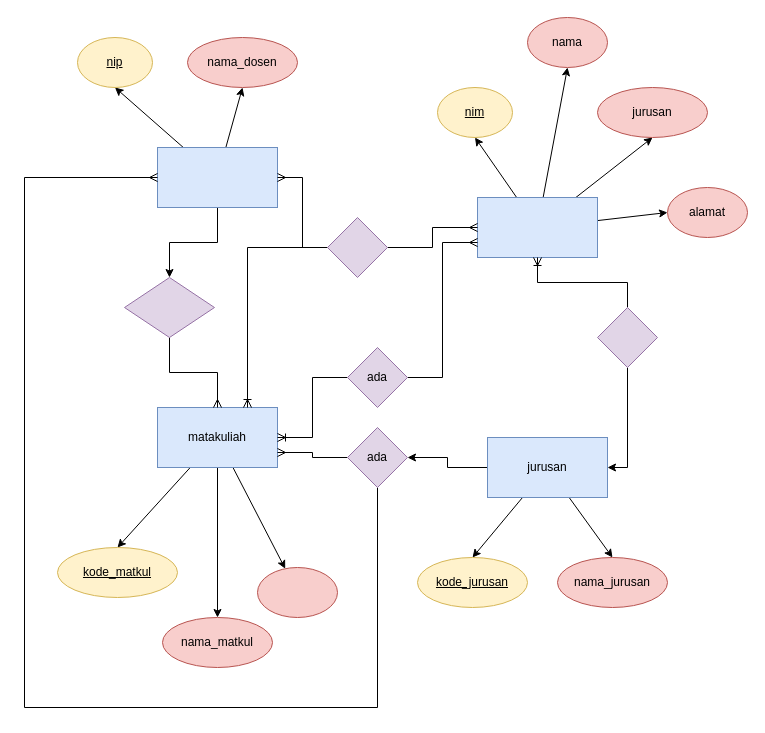
Image size: 765x733. Some labels were removed from this diagram. Here are the shapes that lost their labels. From the top down, the box of each, then its label:
(156, 146, 278, 208): dosen
(326, 216, 388, 278): nilai
(476, 196, 598, 258): mahasiswa
(124, 276, 214, 338): mengajar
(596, 306, 658, 368): ambil
(256, 566, 338, 618): sks
